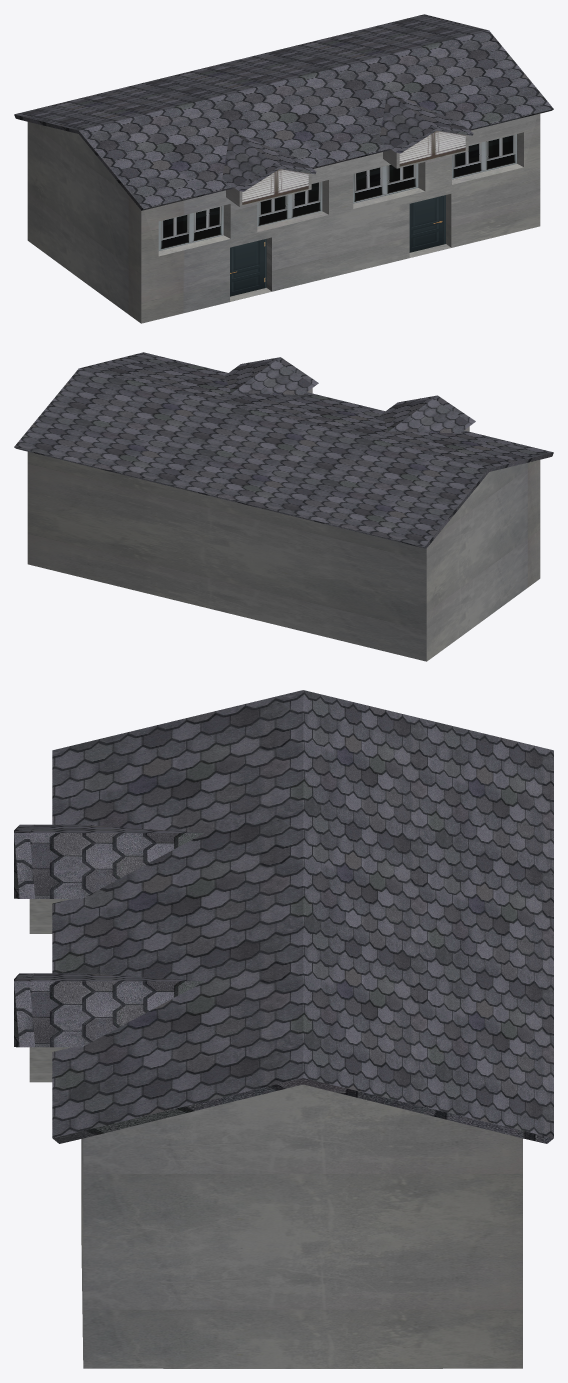
File: building3.fbx
The picture shows the model from 3 angles, top to bottom: view 1: azimuth 30°, elevation 25°; view 2: azimuth 150°, elevation 25°; view 3: azimuth 270°, elevation 25°; orthographic projection. The views are drawn at different scales.
Parts seen in each view (by area): view 1: B3; view 2: B3; view 3: B3.
Boxes of the visible parts, bbox=[...] form: B3: bbox=[14, 14, 553, 323]; B3: bbox=[14, 352, 553, 661]; B3: bbox=[14, 690, 553, 1368].
Bounding box in the file's own units: 1384 × 493 × 814.
9 materials, 9 textured.
